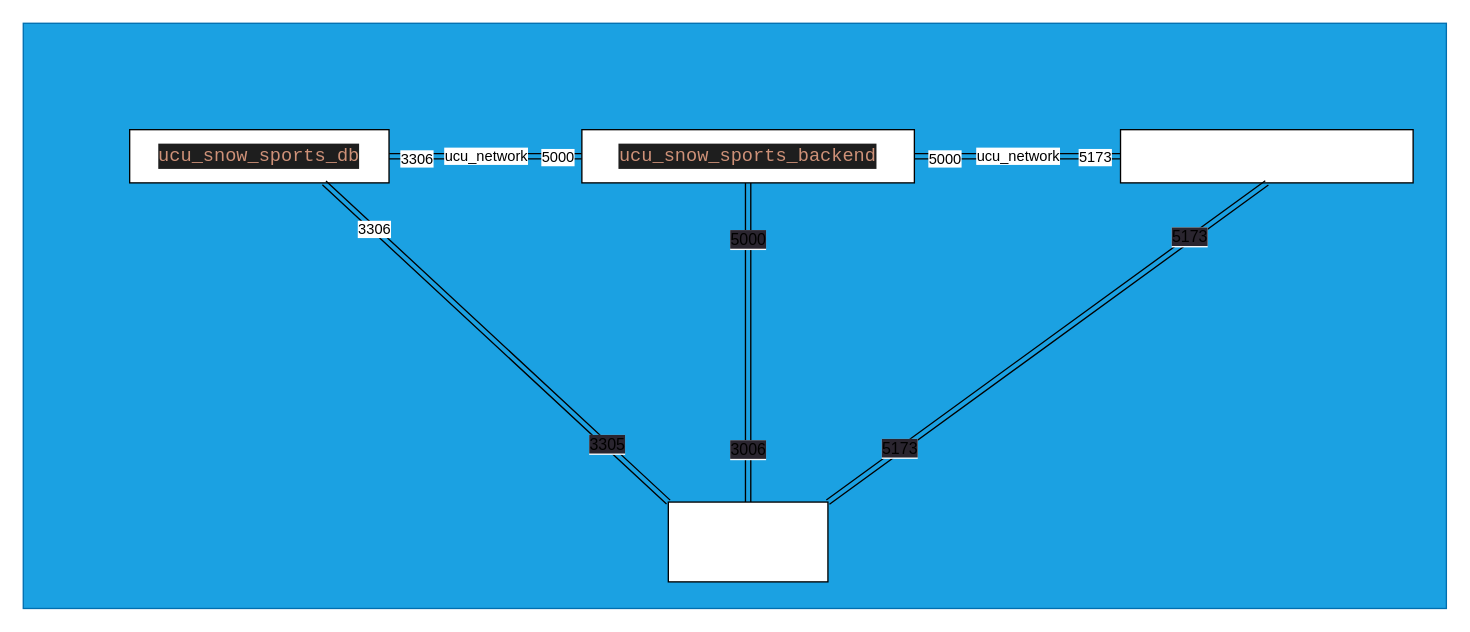
Some shapes in this 1470 by 632 pixel diagram are drawn without their labels. Each missing label, with the centre of its shape:
Host: (x=747, y=541)
ucu_snow_sports_frontend: (x=1266, y=155)
